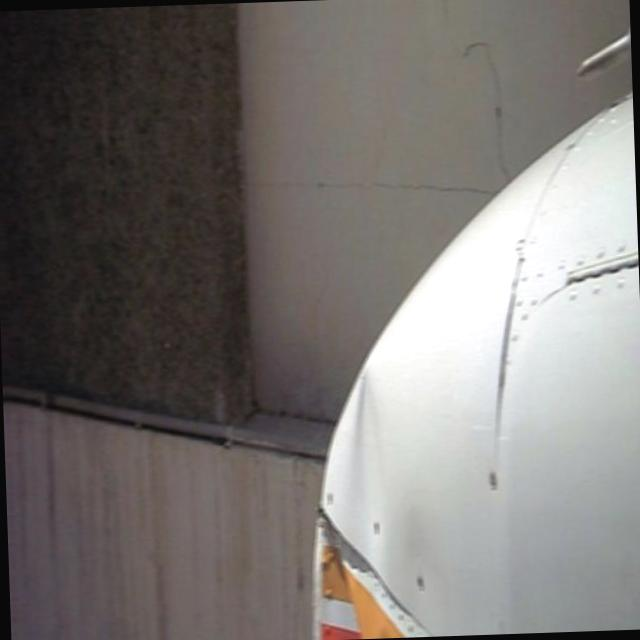dent: (341, 364, 396, 528)
